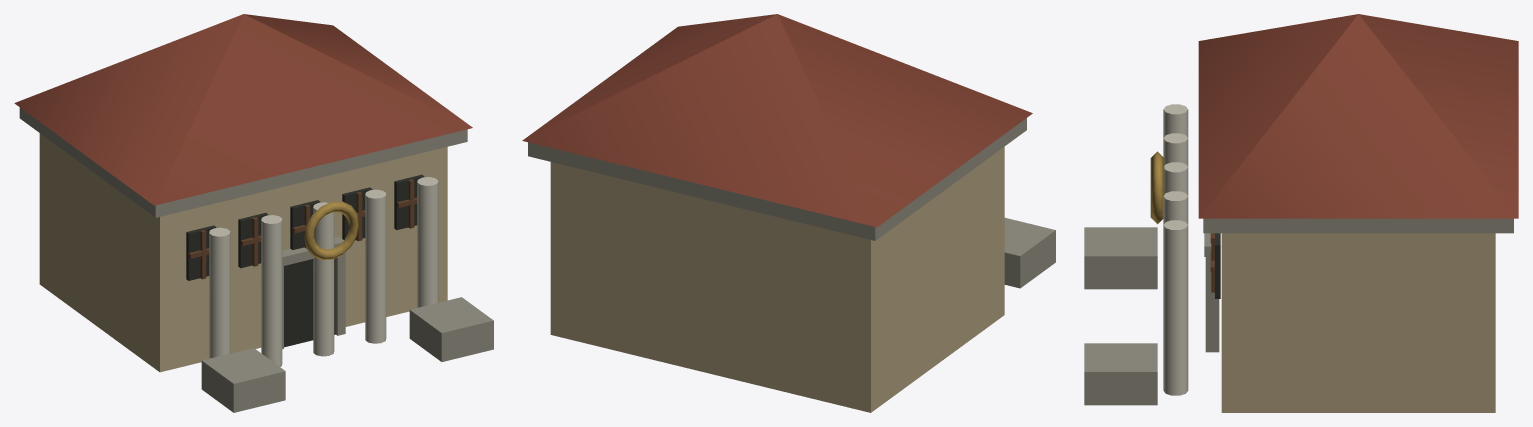
Rendered from custom-cb-bank.glb.
The picture shows the model from 3 angles, left to right: view 1: azimuth 30°, elevation 25°; view 2: azimuth 150°, elevation 25°; view 3: azimuth 270°, elevation 25°; orthographic projection. The views are drawn at different scales.
Parts seen in each view (by area): view 1: custom-cb-bank; view 2: custom-cb-bank; view 3: custom-cb-bank.
Boxes of the visible parts, left/top/right/bottom form: custom-cb-bank: left=14, top=14, right=493, bottom=412; custom-cb-bank: left=522, top=14, right=1055, bottom=412; custom-cb-bank: left=1084, top=14, right=1518, bottom=412.
Bounding box in the file's own units: 0.9685 × 0.8105 × 1.
